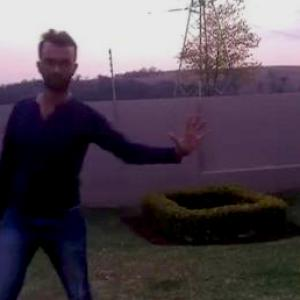follow_hand: (169, 110, 215, 157)
